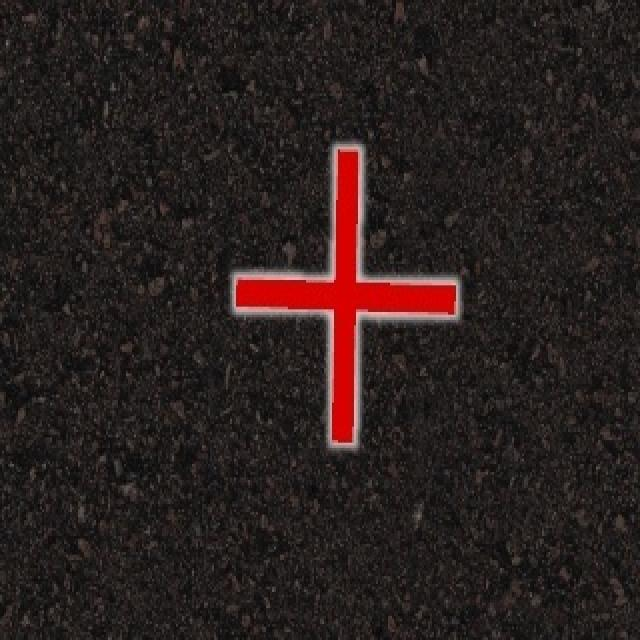x_marker: (235, 148, 455, 441)
